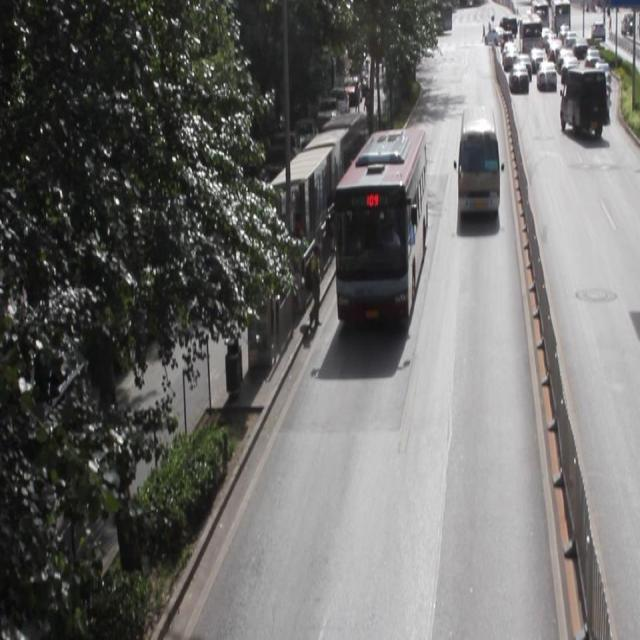truck: (457, 110, 499, 220), (557, 69, 606, 135)
van: (336, 130, 425, 325)
